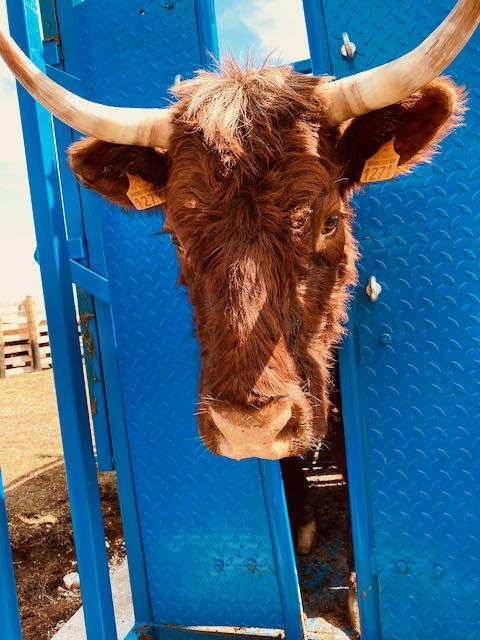muzzles: (183, 402, 332, 468)
